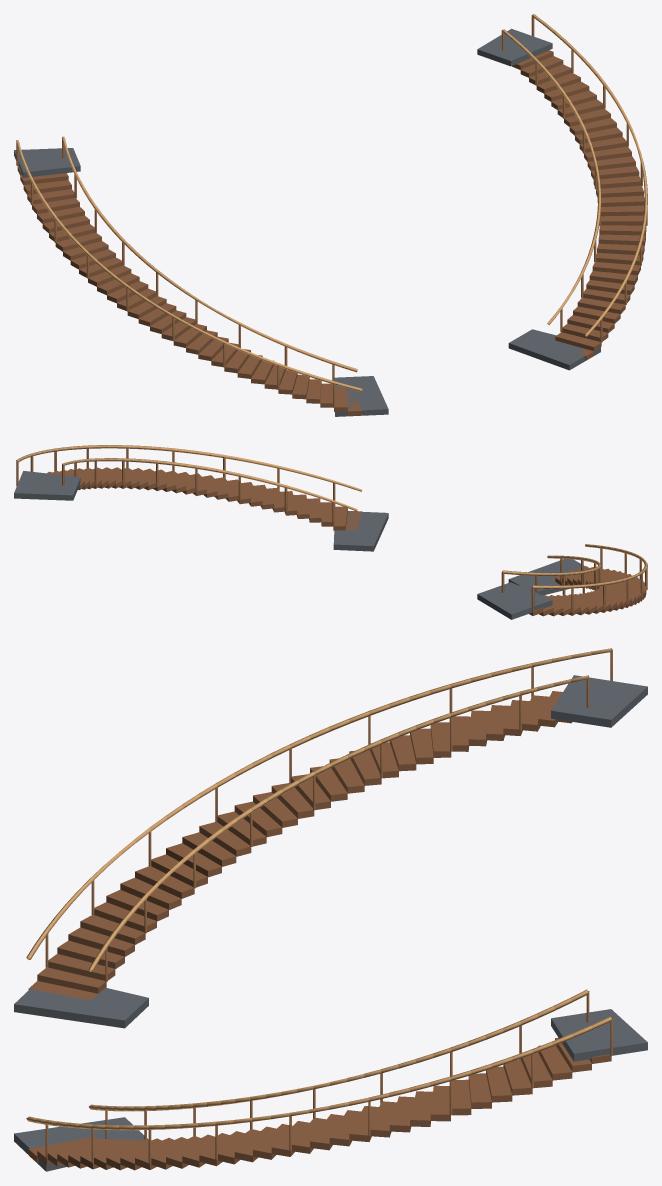
File: Twin_Curved_Stairs.glb
3 views of the same model, one above another, from view 1: azimuth 30°, elevation 25°; view 2: azimuth 150°, elevation 25°; view 3: azimuth 270°, elevation 25° (orthographic). The views are drawn at different scales.
Parts seen in each view (by area): view 1: Lower_Landing (×2), Upper_Landing (×2); view 2: Upper_Landing (×2), Lower_Landing (×2), Stair_tread_32, Stair_tread_30, Stair_tread_29, Stair_tread_31, Stair_tread_26, Stair_tread_27, Stair_tread_25, Stair_tread_28, Stair_tread_33; view 3: Upper_Landing (×2), Lower_Landing (×2), Stair_tread_32, Stair_tread_31, Stair_tread_29, Stair_tread_28, Stair_tread_30, Stair_tread_25, Stair_tread_24, Stair_tread_26, Stair_tread_27, Stair_tread_21 (+10 smaller).
Boxes of the visible parts, bbox=[...] form: Lower_Landing (×2): bbox=[334, 329, 600, 416]; Upper_Landing (×2): bbox=[14, 28, 552, 177]; Upper_Landing (×2): bbox=[14, 471, 552, 619]; Lower_Landing (×2): bbox=[333, 511, 587, 595]; Stair_tread_32: bbox=[333, 506, 347, 530]; Stair_tread_30: bbox=[307, 498, 321, 522]; Stair_tread_29: bbox=[293, 494, 309, 518]; Stair_tread_31: bbox=[320, 502, 332, 526]; Stair_tread_26: bbox=[253, 484, 274, 509]; Stair_tread_27: bbox=[267, 488, 284, 512]; Stair_tread_25: bbox=[241, 482, 262, 506]; Stair_tread_28: bbox=[280, 491, 297, 515]; Stair_tread_33: bbox=[345, 511, 361, 530]; Upper_Landing (×2): bbox=[551, 675, 647, 1061]; Lower_Landing (×2): bbox=[14, 988, 148, 1171]; Stair_tread_32: bbox=[37, 967, 106, 993]; Stair_tread_31: bbox=[48, 954, 115, 980]; Stair_tread_29: bbox=[68, 927, 134, 956]; Stair_tread_28: bbox=[80, 915, 145, 944]; Stair_tread_30: bbox=[57, 940, 124, 968]; Stair_tread_25: bbox=[120, 877, 181, 909]; Stair_tread_24: bbox=[135, 866, 194, 898]; Stair_tread_26: bbox=[106, 889, 168, 921]; Stair_tread_27: bbox=[94, 902, 156, 932]; Stair_tread_21: bbox=[182, 832, 236, 866].
Size of the model in its own units: 24.6 by 7.11 by 16.73.
